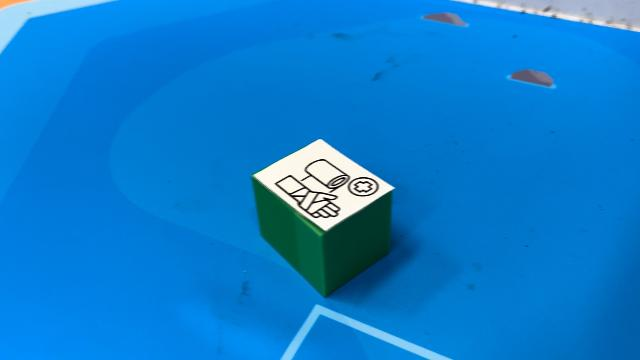bandage: (250, 138, 396, 298)
